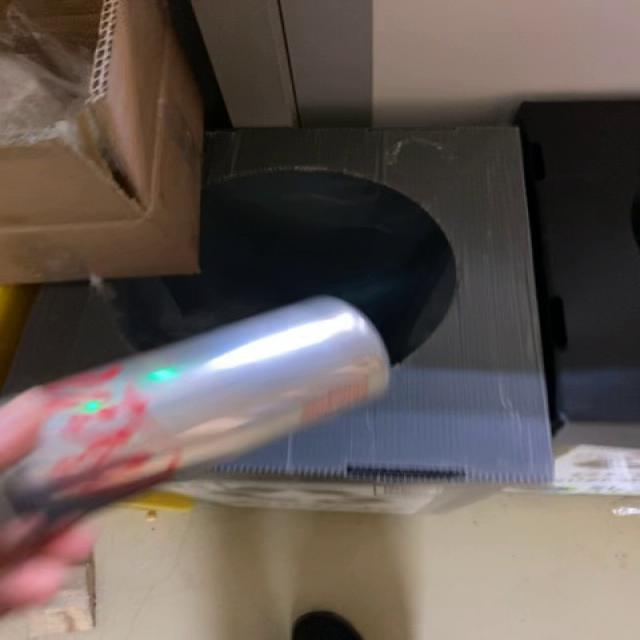bin: (7, 128, 553, 484)
metal: (8, 297, 389, 499)
